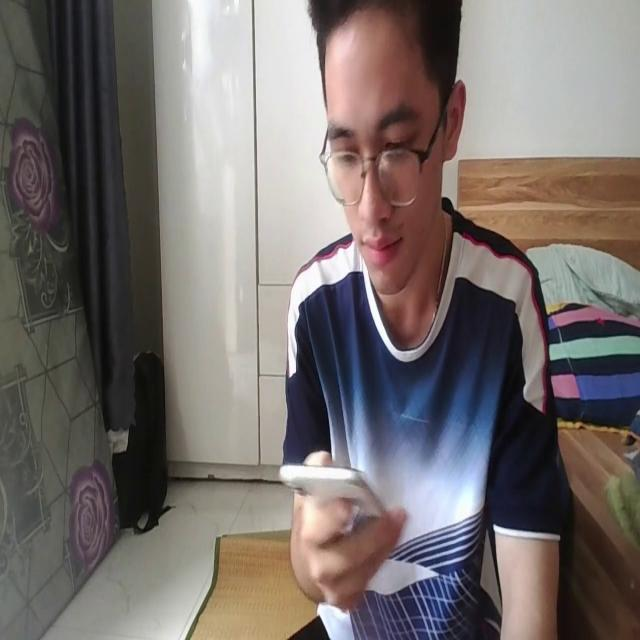phone: (279, 439, 391, 541)
student: (271, 0, 567, 640)
